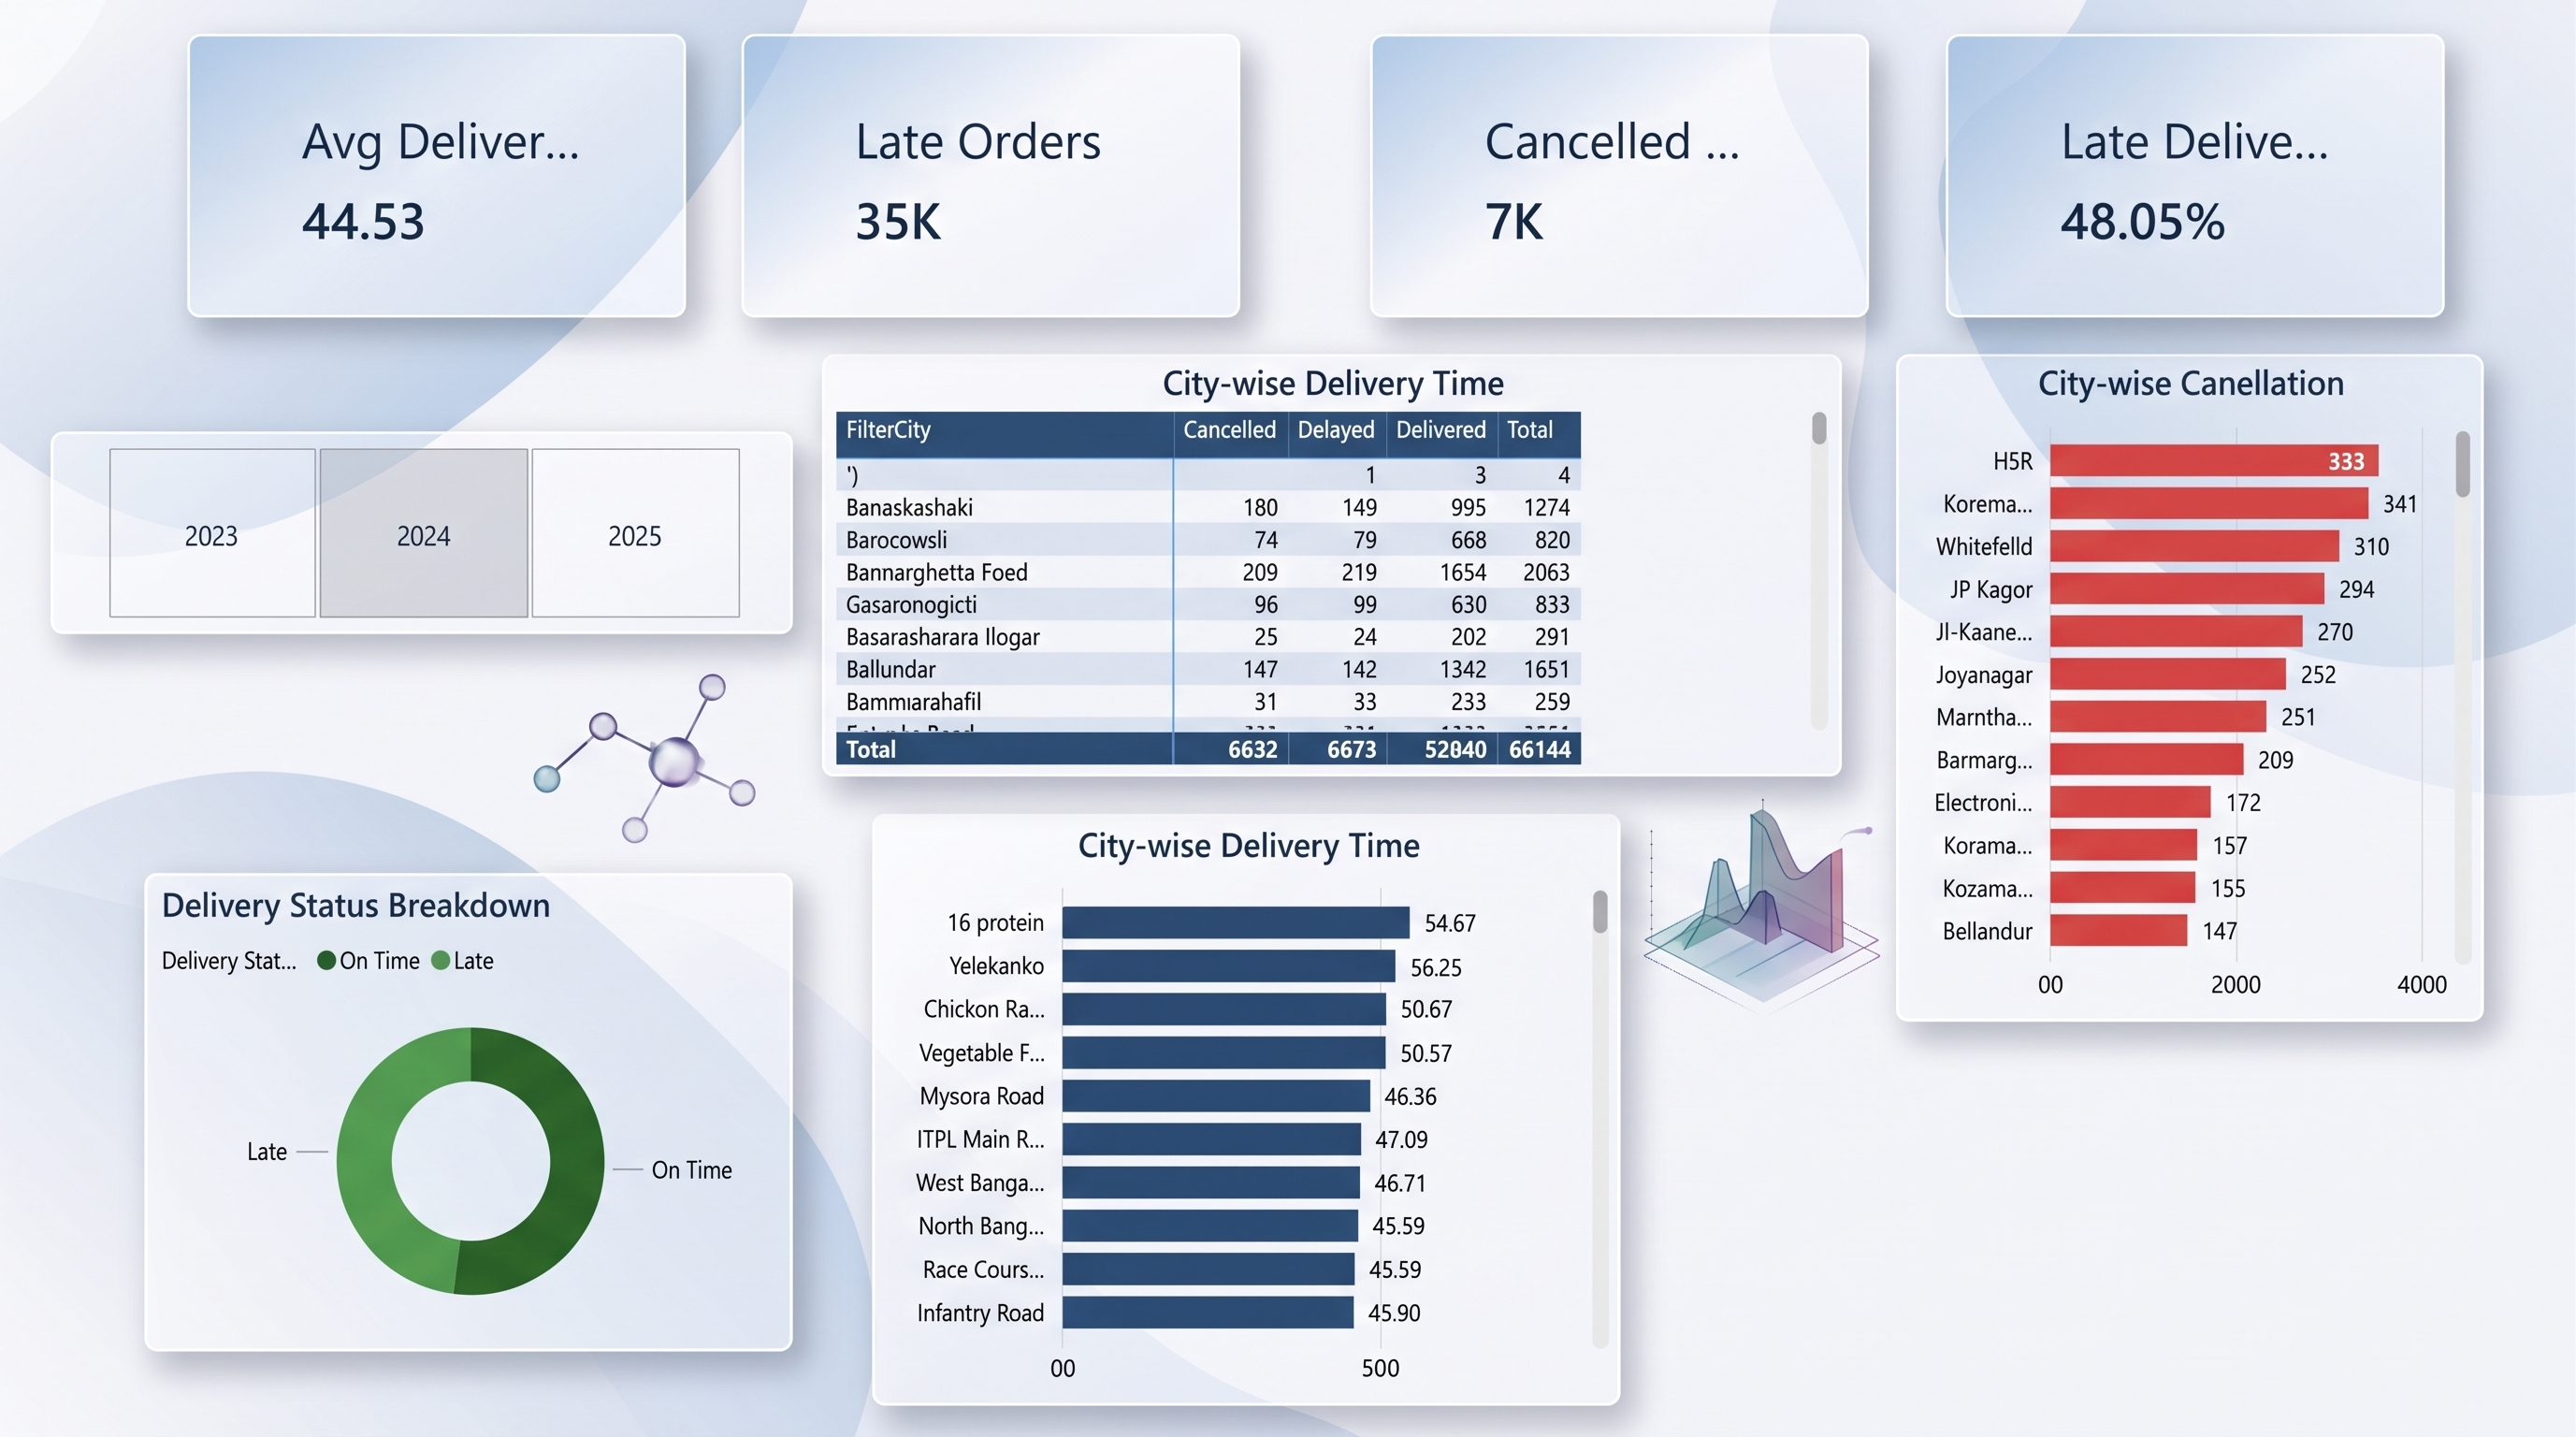

What the dashboard file says about the page in this screenshot:
{"tool":"powerbi","page":{"name":"Delivery and Operations","canvas":[1280,720],"ordinal":5},"visuals":[{"type":"cardVisual","fields":{"Data":["Orders.Avg Delivery Time"]},"box":[75.9,0,287.4,179.1],"z":0},{"type":"cardVisual","fields":{"Data":["Orders.Late Orders"]},"box":[352,0,287.4,177.9],"z":1000},{"type":"cardVisual","fields":{"Data":["Orders.Late Delivery %"]},"box":[952.9,0,287.4,179.1],"z":2000},{"type":"cardVisual","fields":{"Data":["Orders.Cancelled Orders"]},"box":[665.5,0,287.4,179.1],"z":3000},{"type":"lineChart","title":"Delivery Trend ","fields":{"Y":["Orders.Avg Delivery Time"],"Category":["DateTable.Date.Variation.Date Hierarchy.Year","DateTable.Date.Variation.Date Hierarchy.Month"]},"box":[837.2,522.5,442.8,197.8],"z":4000},{"type":"donutChart","title":" Delivery Status Breakdown","fields":{"Y":["Orders.Total Orders"],"Category":["Orders.Delivery Status"]},"box":[114.4,467.7,322.2,236.4],"z":5000},{"type":"barChart","title":" City-wise Delivery Time","fields":{"Category":["Customers.FilterCity"],"Y":["Orders.Avg Delivery Time"]},"box":[436.6,409.3,373.2,294.8],"z":6000},{"type":"barChart","title":" City-wise Canellation","fields":{"Category":["Customers.FilterCity"],"Y":["Orders.Cancelled Orders"]},"box":[946.7,177.9,293.6,333.4],"z":7000},{"type":"pivotTable","title":" City-wise Delivery Time","fields":{"Rows":["Customers.FilterCity"],"Values":["Orders.Total Orders"],"Columns":["Orders.OrderStatus"]},"box":[411.8,155.5,508.8,233.9],"z":8000},{"type":"slicer","fields":{"Values":["DateTable.Year"]},"box":[27,217.2,370.6,101.8],"z":9000}]}

Visuals, with their boxes in screenshot pixels (x1, y1, x2, y2), scaled from the page's 1280x720 canvas onto the 2576x1437 screenshot:
cardVisual - Orders.Avg Delivery Time: 152/0/731/357
cardVisual - Orders.Late Orders: 708/0/1287/356
cardVisual - Orders.Late Delivery %: 1918/0/2496/357
cardVisual - Orders.Cancelled Orders: 1339/0/1918/357
"Delivery Trend " lineChart: 1685/1043/2575/1436
" Delivery Status Breakdown" donutChart: 230/934/878/1405
" City-wise Delivery Time" barChart: 878/817/1629/1405
" City-wise Canellation" barChart: 1905/356/2496/1021
" City-wise Delivery Time" pivotTable: 829/311/1853/777
slicer - DateTable.Year: 54/433/800/637
